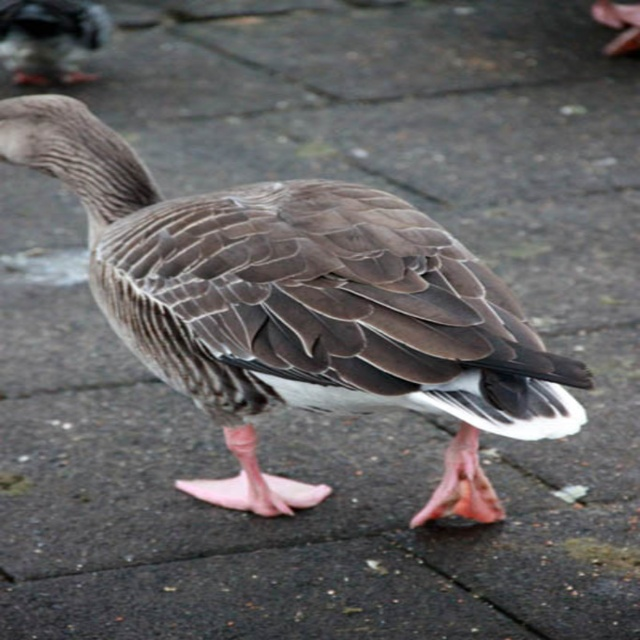Duck: (21, 81, 590, 529)
